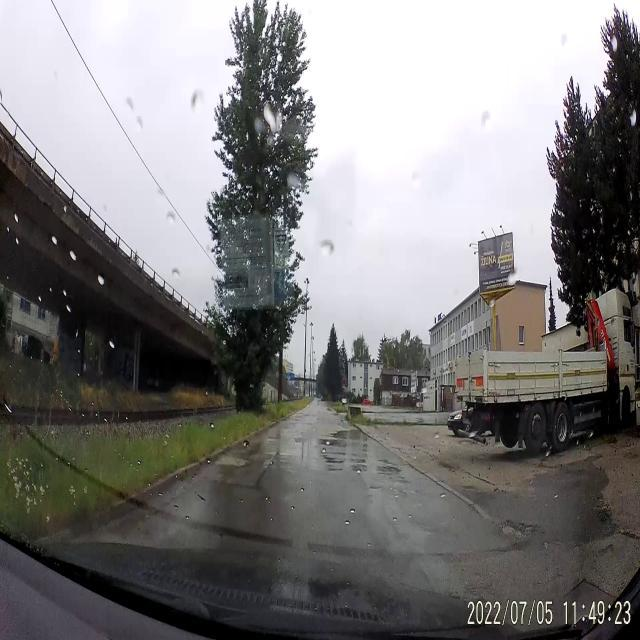Pothole: (493, 512, 538, 546), (323, 449, 348, 477), (378, 460, 406, 482), (351, 456, 367, 474)
